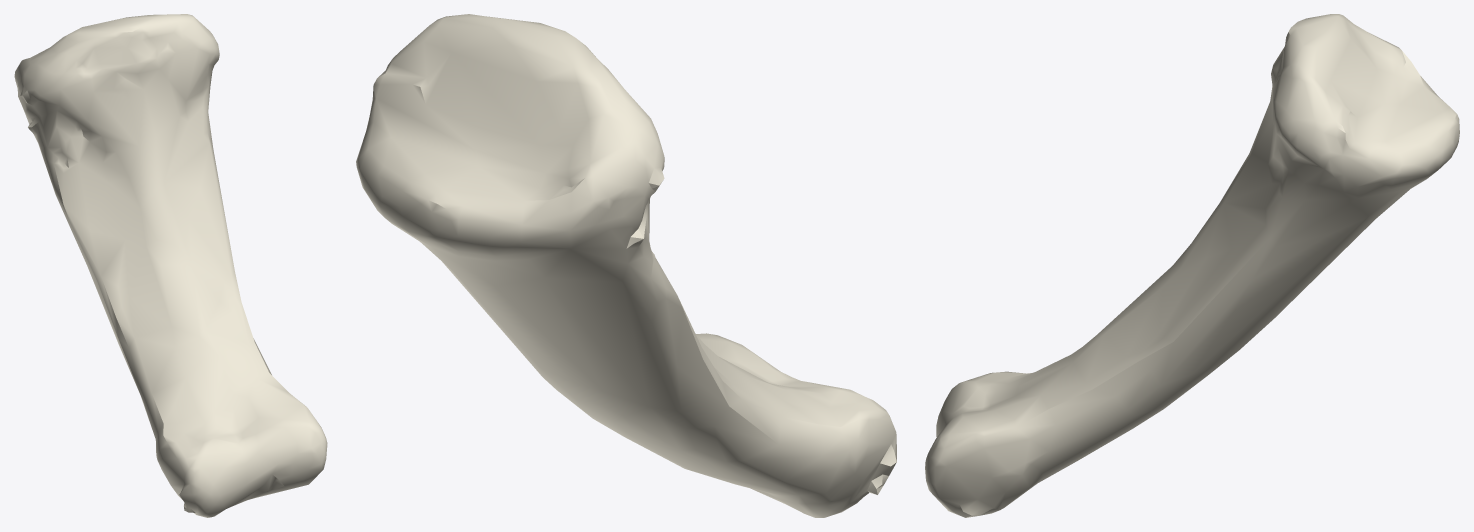
Rendered from fma24457.glb.
The picture shows the model from 3 angles, left to right: view 1: azimuth 30°, elevation 25°; view 2: azimuth 150°, elevation 25°; view 3: azimuth 270°, elevation 25°; orthographic projection. The views are drawn at different scales.
Parts seen in each view (by area): view 1: FMA24457; view 2: FMA24457; view 3: FMA24457.
Part boxes in pixels (x1,y1,x2,y2): FMA24457: [14, 14, 327, 517]; FMA24457: [356, 14, 896, 517]; FMA24457: [925, 14, 1459, 517].
Size of the model in its own units: 0.0122 by 0.0241 by 0.0243.
